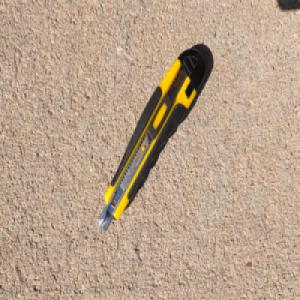Cutter: (97, 45, 208, 233)
